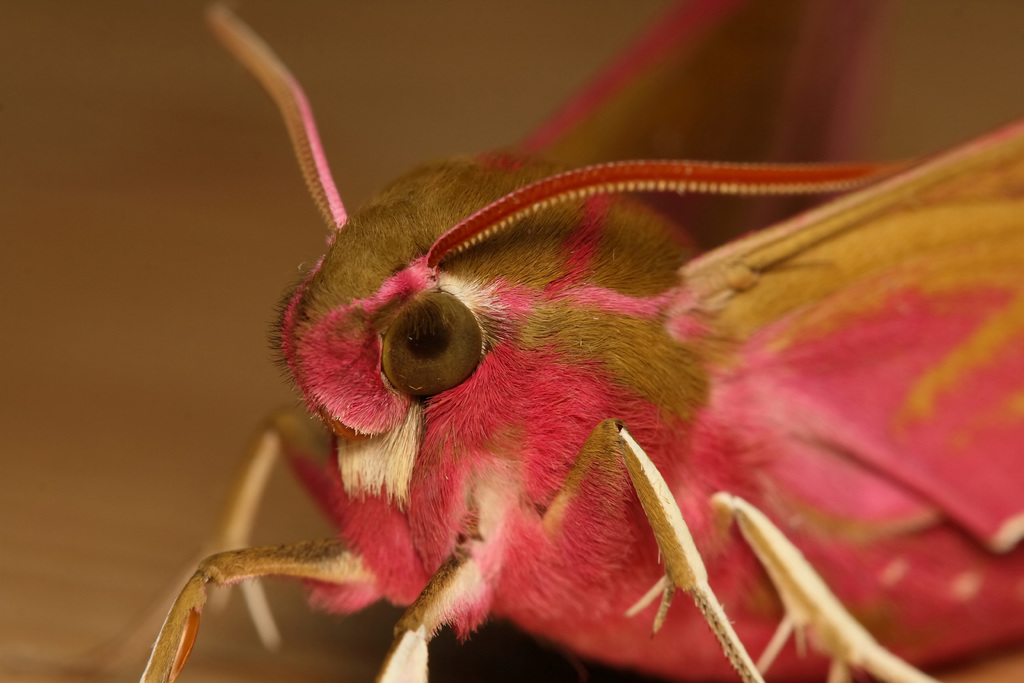Butterfly: (167, 94, 1024, 683)
